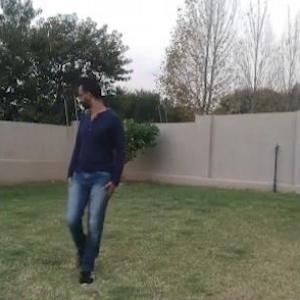follow: (66, 74, 116, 273)
